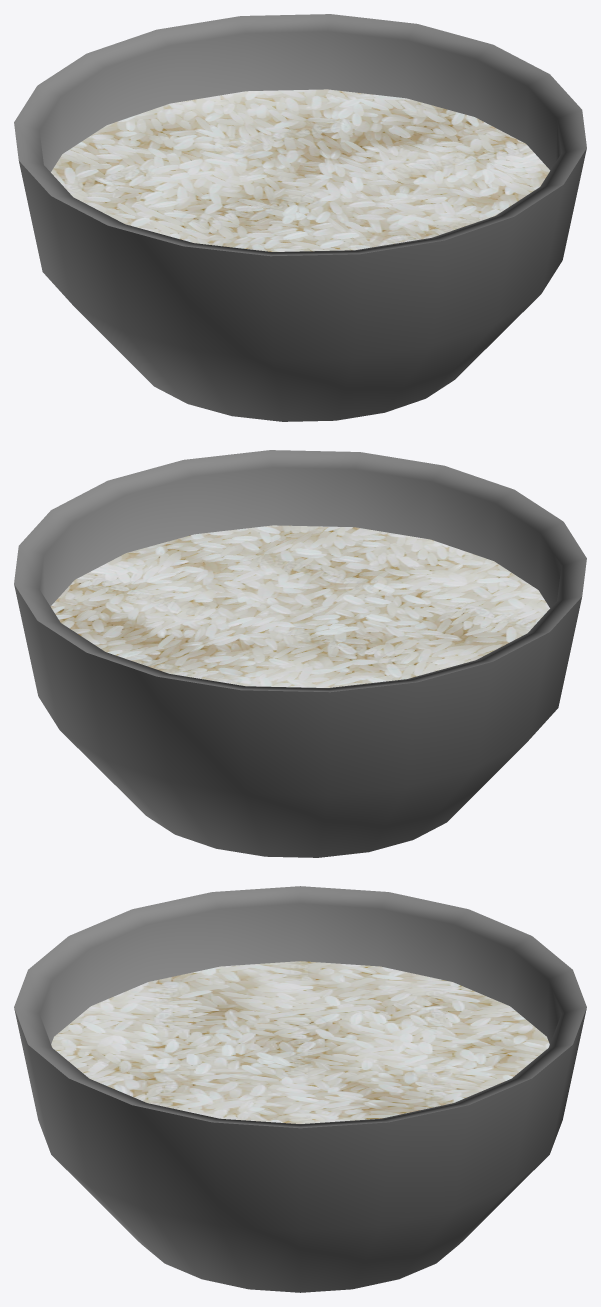
The model's file is rice.fbx.
3 views of the same model, one above another, from view 1: azimuth 30°, elevation 25°; view 2: azimuth 150°, elevation 25°; view 3: azimuth 270°, elevation 25° (orthographic).
Visible parts, largest first — view 1: venky1:pCylinder15, pCylinder1; view 2: venky1:pCylinder15, pCylinder1; view 3: venky1:pCylinder15, pCylinder1.
Part boxes in pixels (box(x1,y1,x2,y2)): venky1:pCylinder15: box(14, 14, 586, 421); pCylinder1: box(51, 89, 550, 251); venky1:pCylinder15: box(14, 450, 586, 857); pCylinder1: box(50, 525, 549, 687); venky1:pCylinder15: box(14, 886, 586, 1292); pCylinder1: box(51, 961, 549, 1123).
Bounding box in the file's own units: 44.08 × 18.22 × 44.08.
